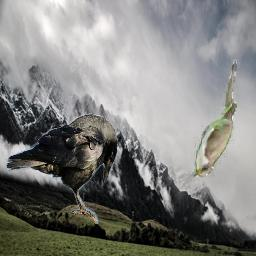Crow: (5, 114, 117, 225)
Cuckoo: (189, 59, 237, 180)
